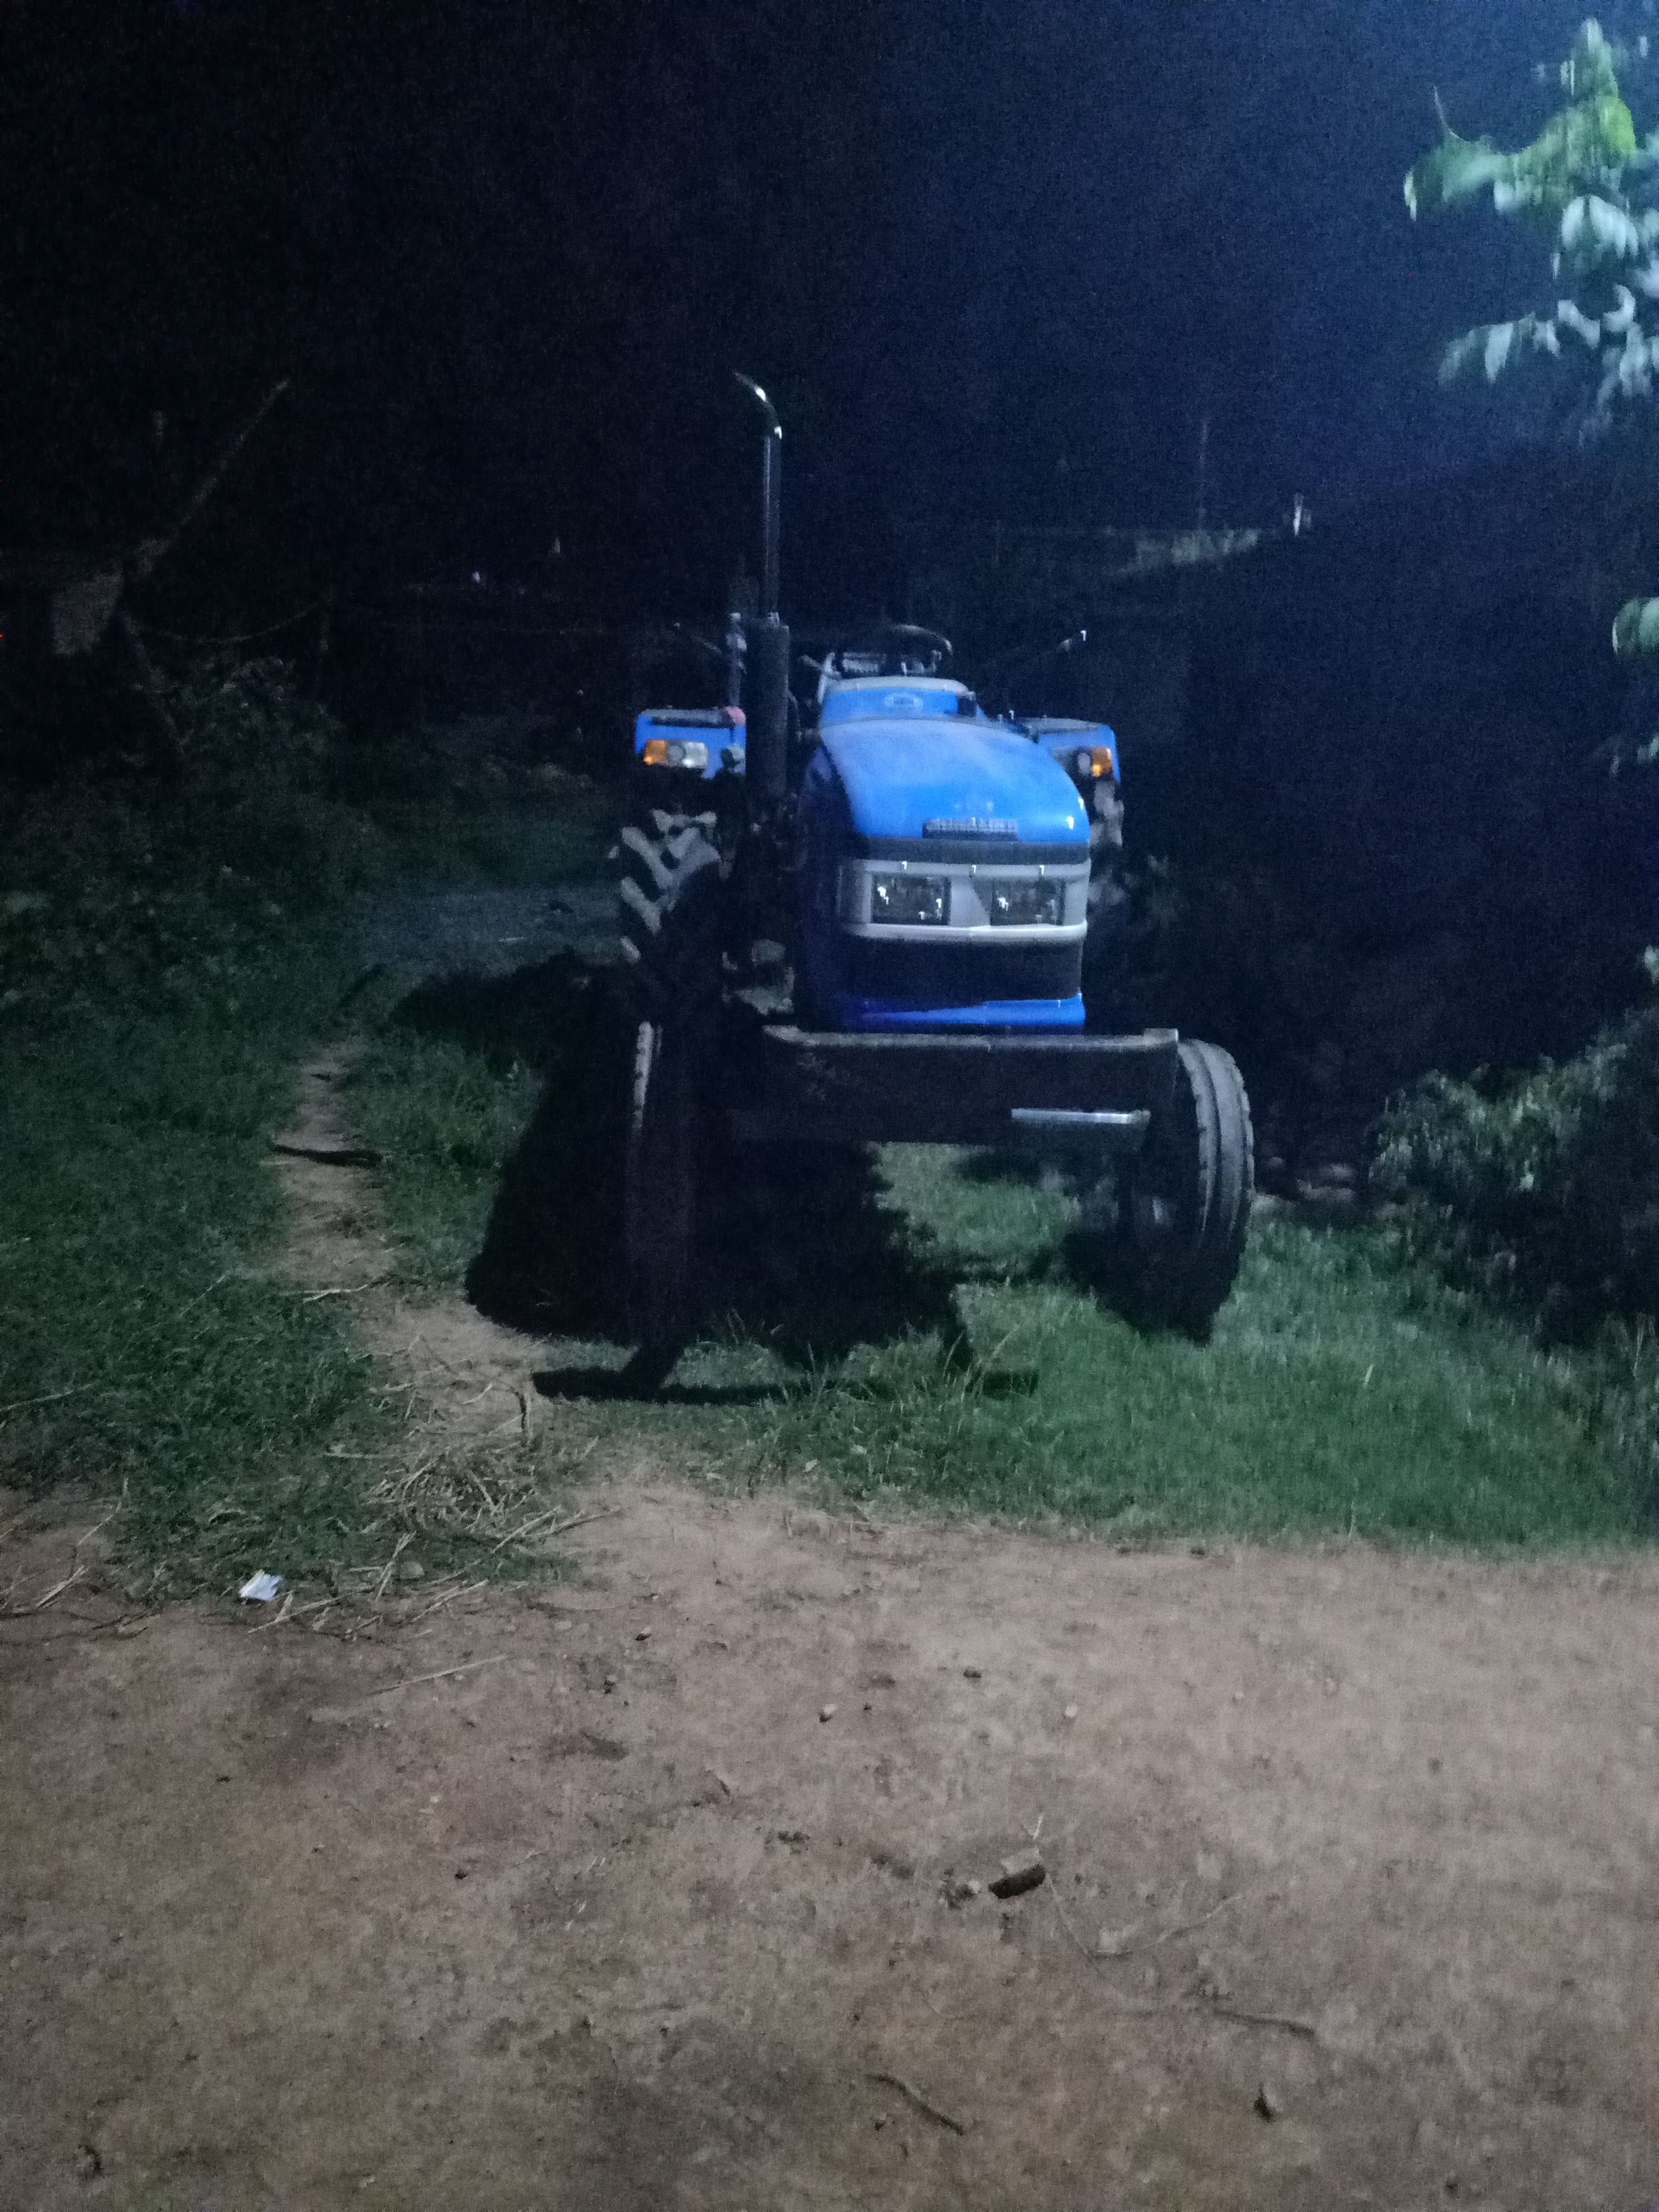tractor: (596, 362, 1260, 1357)
